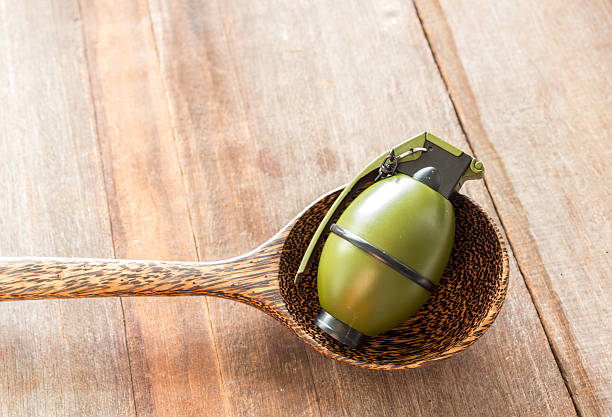e1: (293, 133, 485, 345)
